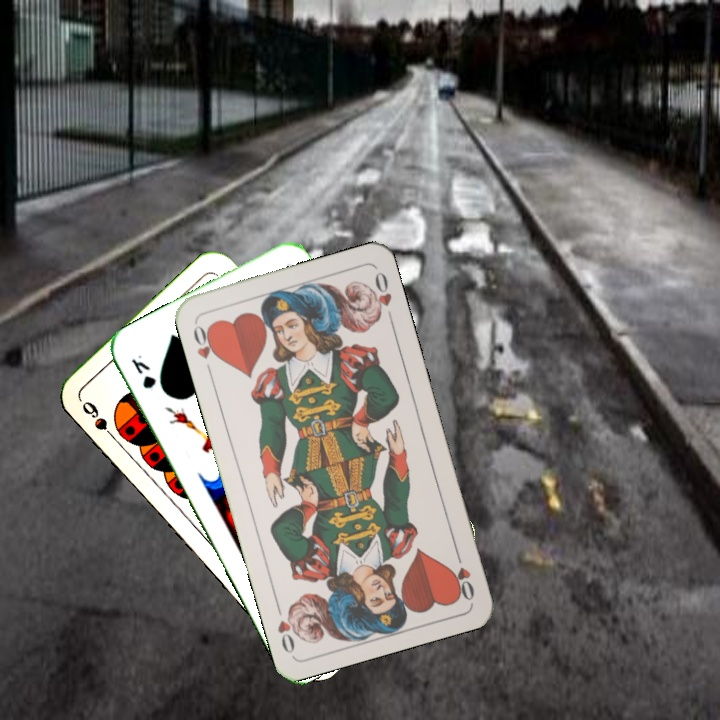GK: (127, 350, 159, 392)
HO: (189, 319, 221, 377), (448, 545, 477, 604)
S9: (78, 396, 121, 445)
